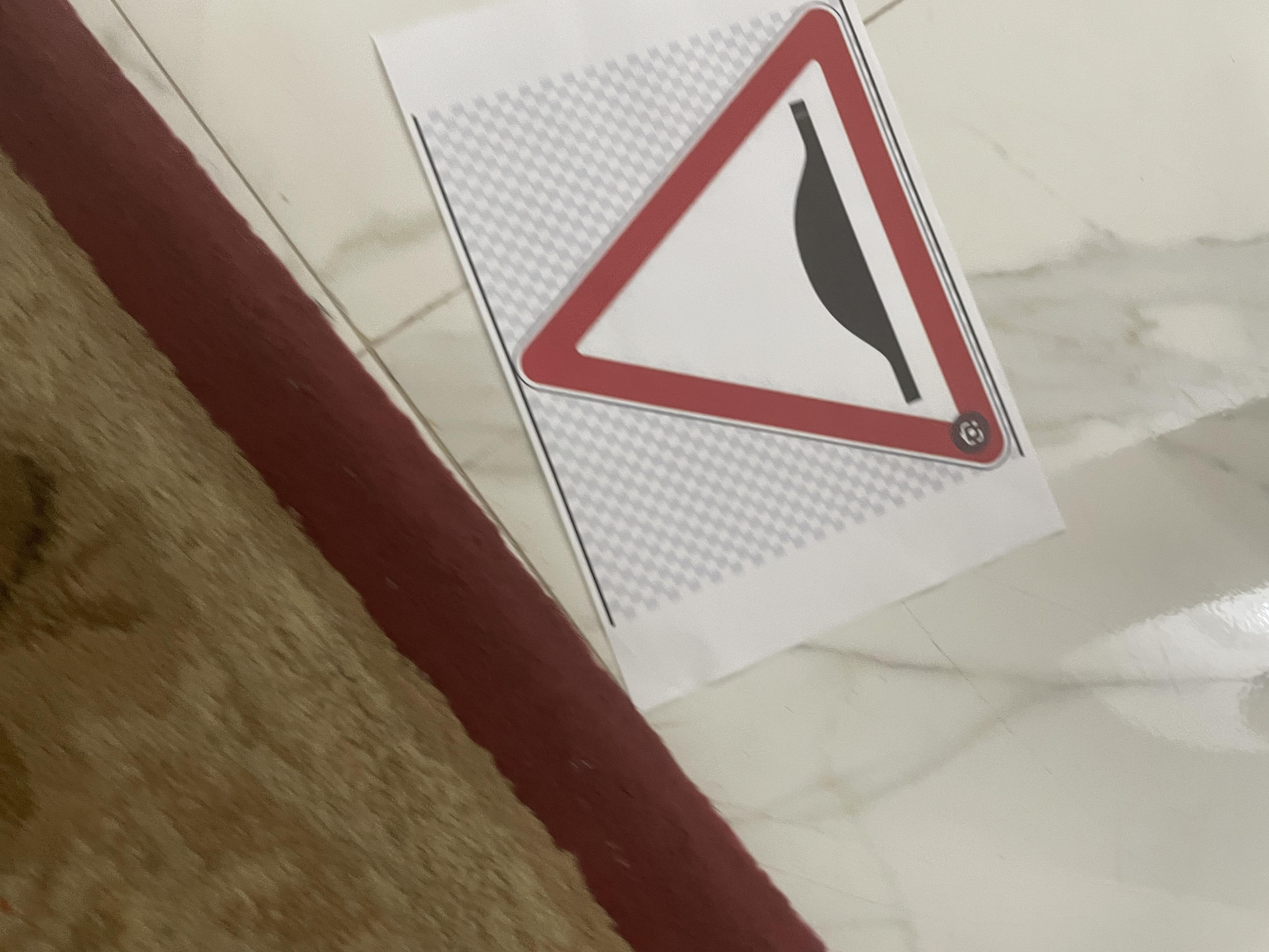Hump: (640, 378, 1268, 762)
